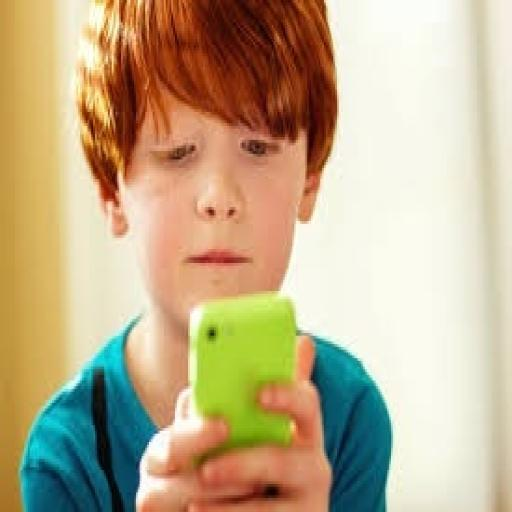texting: (16, 0, 394, 509)
